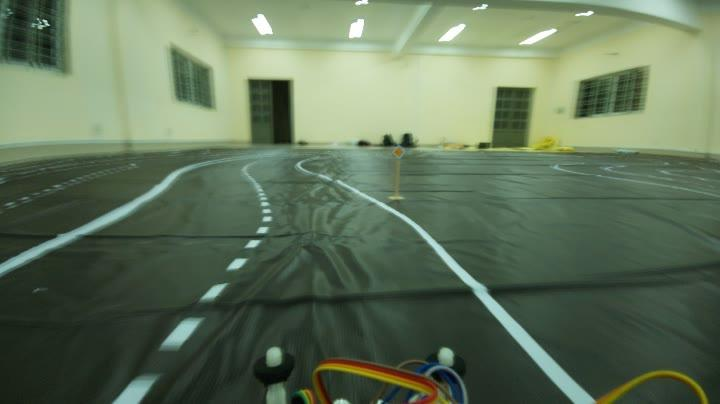priority: (393, 140, 406, 162)
